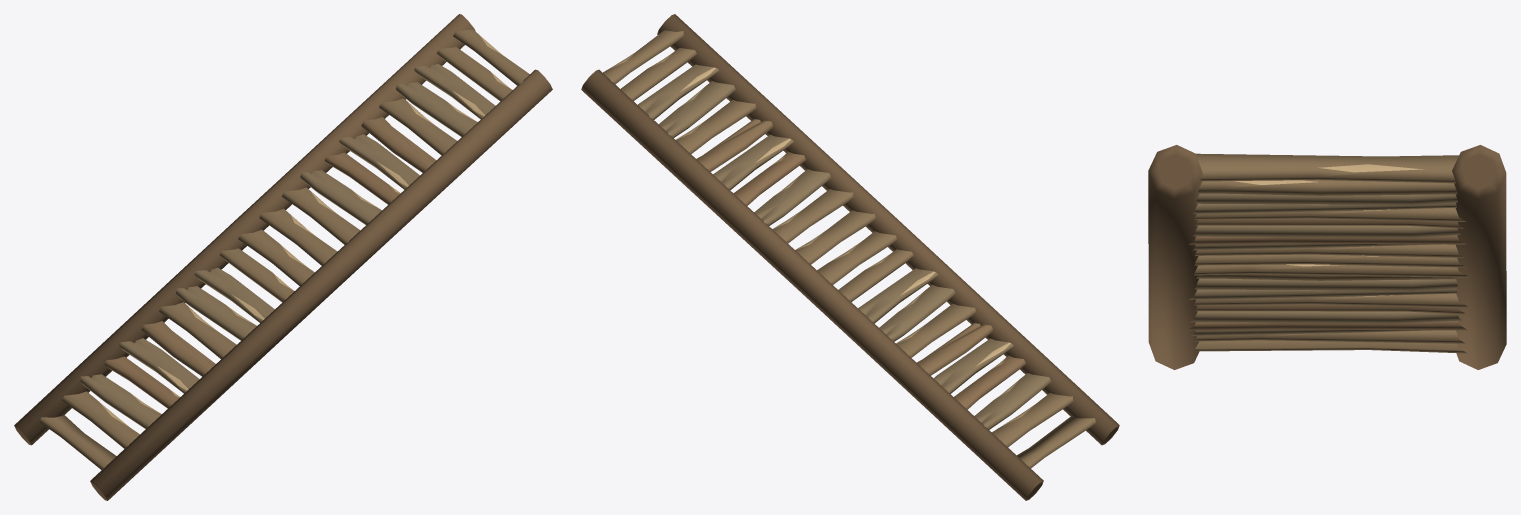
Rendered from rpgpp_ag_stairs_interior_02a_4m.fbx.
3 views of the same model, side by side, from view 1: azimuth 30°, elevation 25°; view 2: azimuth 150°, elevation 25°; view 3: azimuth 270°, elevation 25° (orthographic). The views are drawn at different scales.
Parts seen in each view (by area): view 1: rpgpp_ag_stairs_interior_02a_4m; view 2: rpgpp_ag_stairs_interior_02a_4m; view 3: rpgpp_ag_stairs_interior_02a_4m.
Boxes of the visible parts, x1,y1,x2,y2 form: rpgpp_ag_stairs_interior_02a_4m: (14, 14, 552, 500); rpgpp_ag_stairs_interior_02a_4m: (581, 14, 1119, 500); rpgpp_ag_stairs_interior_02a_4m: (1148, 145, 1506, 369).
Size of the model in its own units: 6.25 by 4.24 by 2.12.
